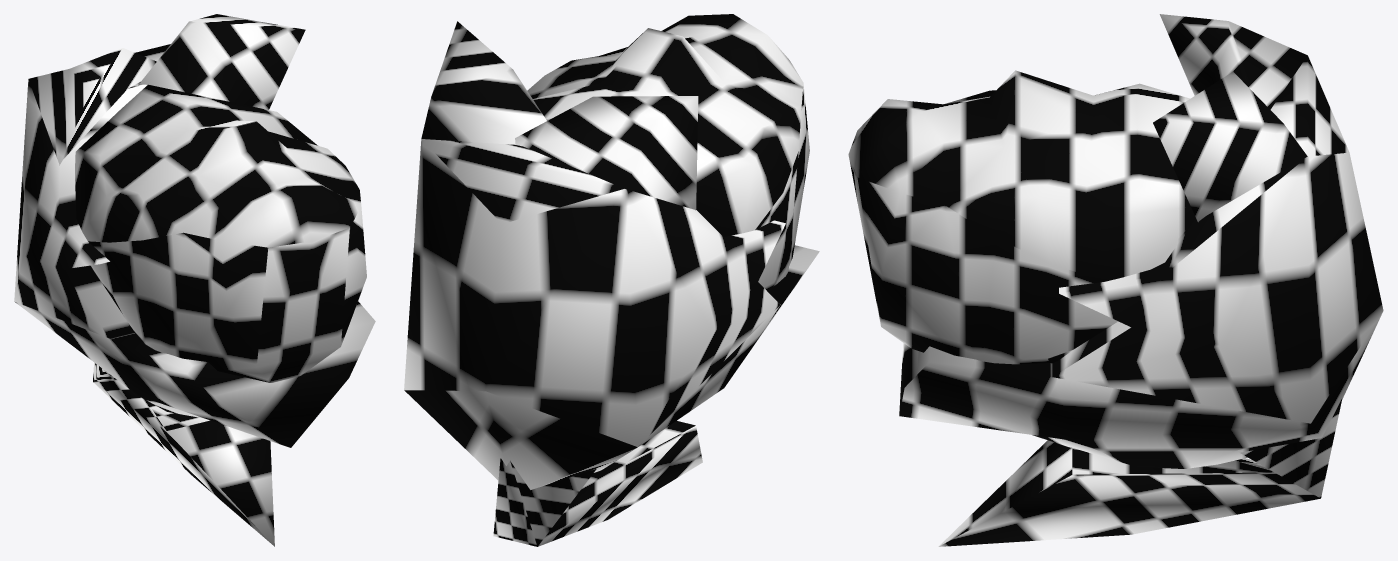
Rendered from infaunhufefa5.dae.
3 views of the same model, side by side, from view 1: azimuth 30°, elevation 25°; view 2: azimuth 150°, elevation 25°; view 3: azimuth 270°, elevation 25° (orthographic). The views are drawn at different scales.
Parts seen in each view (by area): view 1: face; view 2: face; view 3: face.
Boxes of the visible parts, x1,y1,x2,y2 form: face: (14,14,375,546); face: (404,14,819,546); face: (848,14,1383,546).
Bounding box in the file's own units: 1.02 × 1.55 × 1.59.
Materials: 1 (1 with a texture image).
